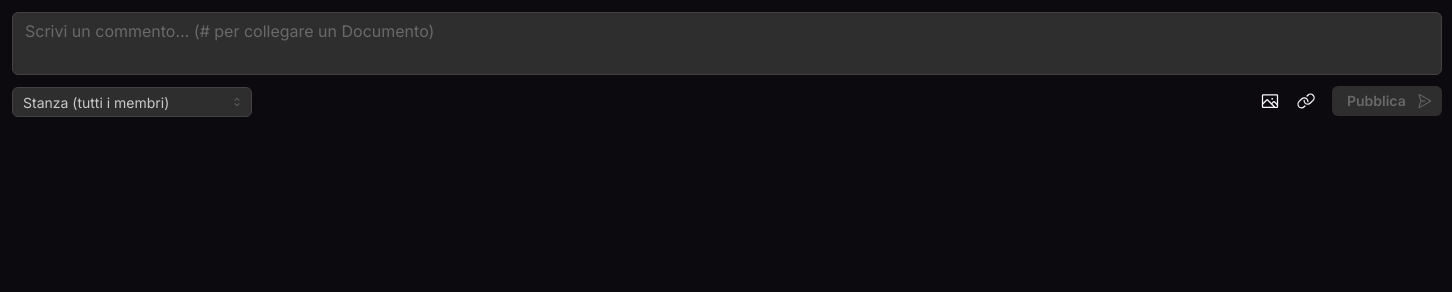
Test case: visibility › asks who may see a Selective Comment
What coordinates should you click on to do the following:
click the dropdown named "Visibilità del commento"
I would click on:
 (132, 102)
Its box is [12,87,252,117].
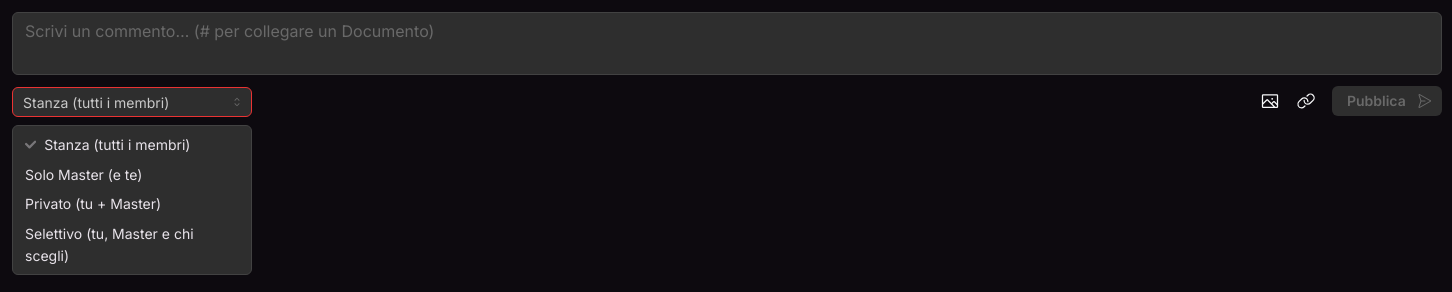
What coordinates should you click on to do the following:
click the option "Selettivo (tu, Master e chi scegli)"
I would click on:
 (109, 244)
Its box is [25,225,194,264].
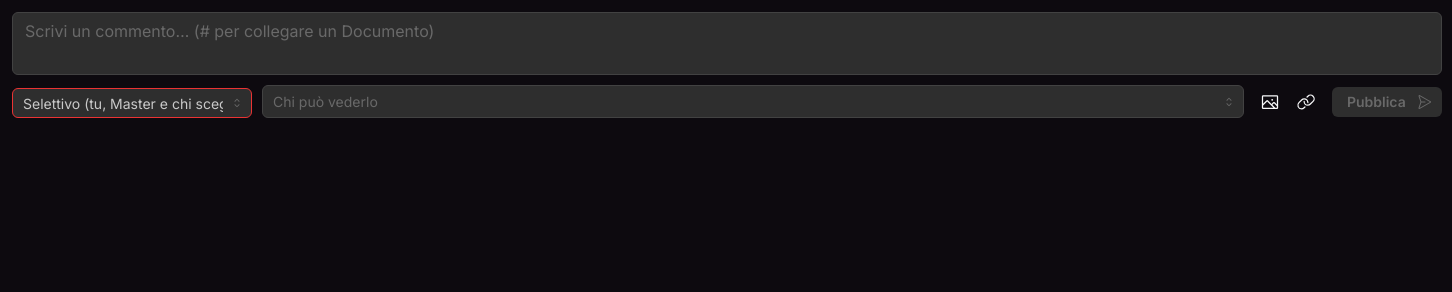
Result: the dropdown named "Membri che possono vedere il commento" is shown at [273,90,1215,113]
